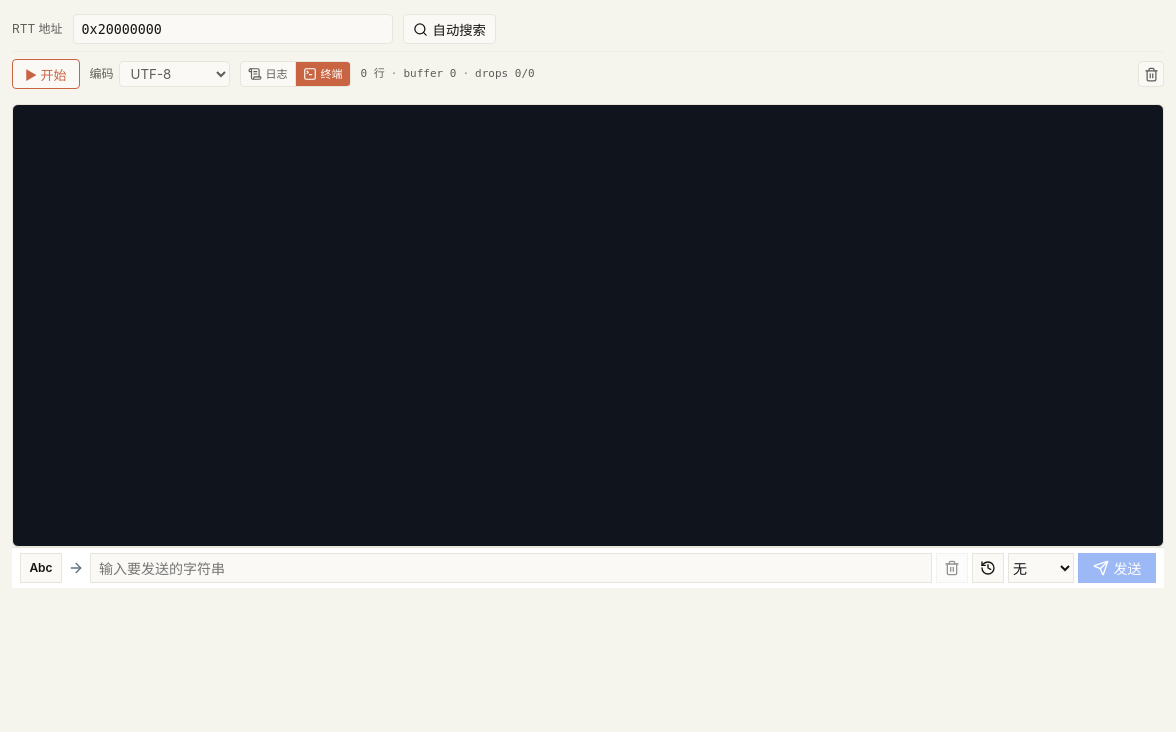
it: RttViewTab binary migration › searches the selected AXF/ELF and fills the editable RTT address
The image size is (1176, 732).
Step 1. Click the button with test id "rtt-search" → (449, 29), box [403,14,496,44]
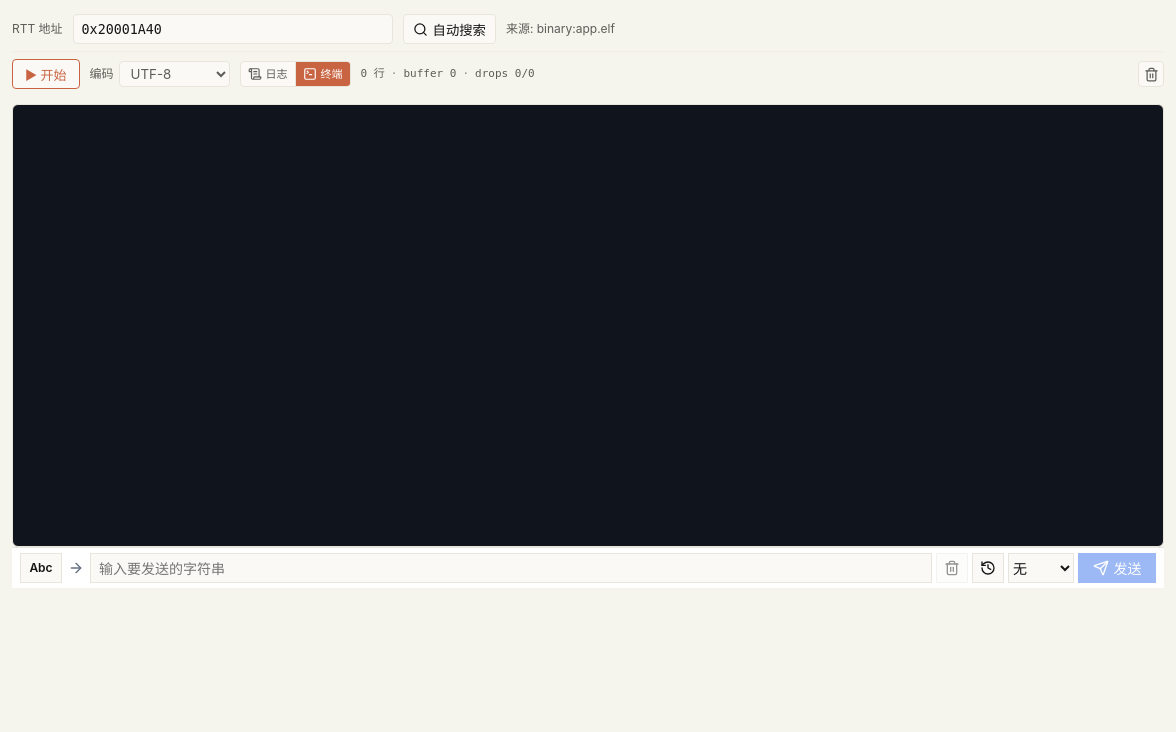
Now the field with test id "rtt-address" holds "0x20001A40", box [73,14,393,44]
Now the text "binary:app.elf" is shown, box [506,21,615,36]
